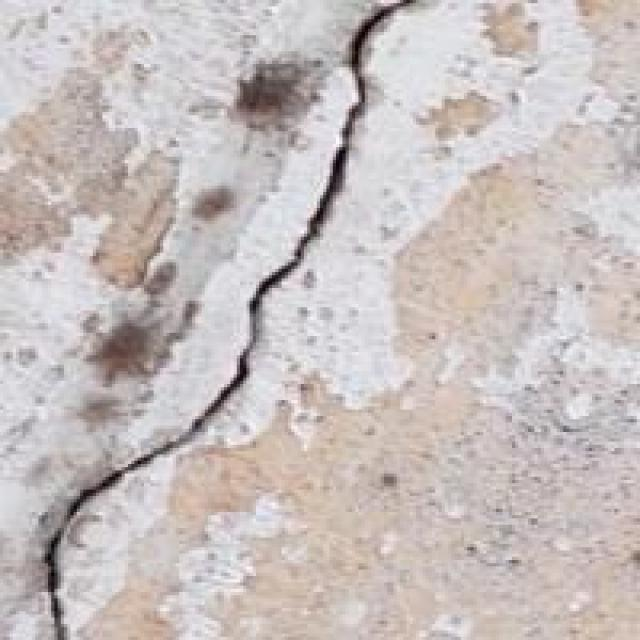Crack: (26, 0, 404, 637)
